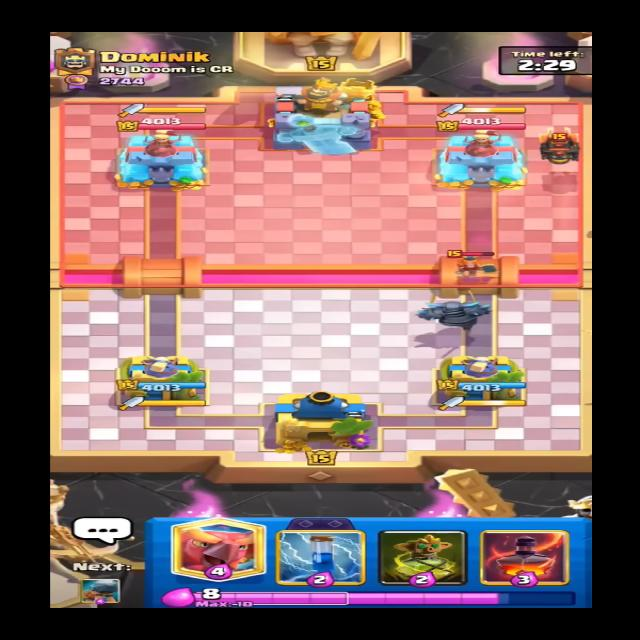lava-hound: (518, 124, 592, 166)
valkyrie: (442, 249, 496, 282)
